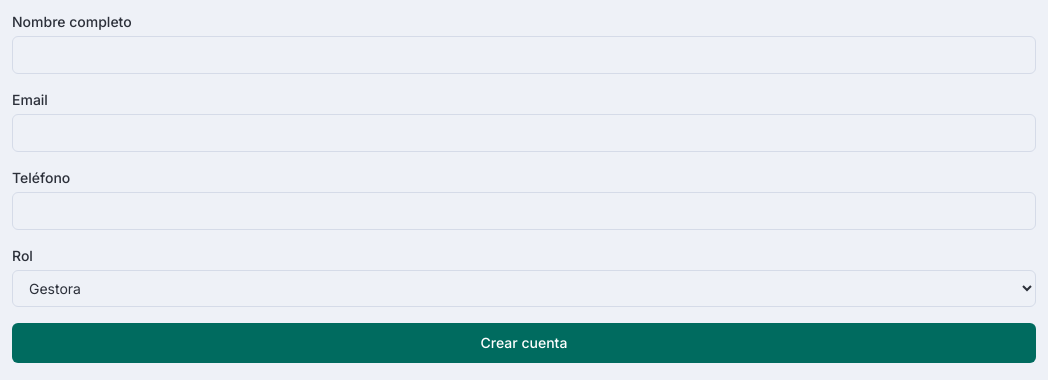
Test: CreateUserForm (R4.1, R4.2, R4.3, R4.5, design D5, D6) › on success switches to TemporaryPasswordReveal with the returned password
In the field labelled "Nombre completo": (524, 55) [12,36,1036,74], type "Persona Nueva"
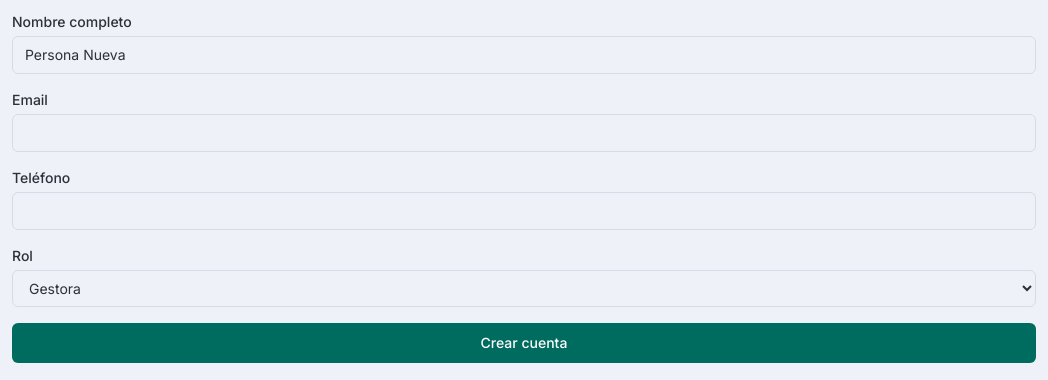
In the field labelled "Email": (524, 133) [12,114,1036,152], type "new@example.com"
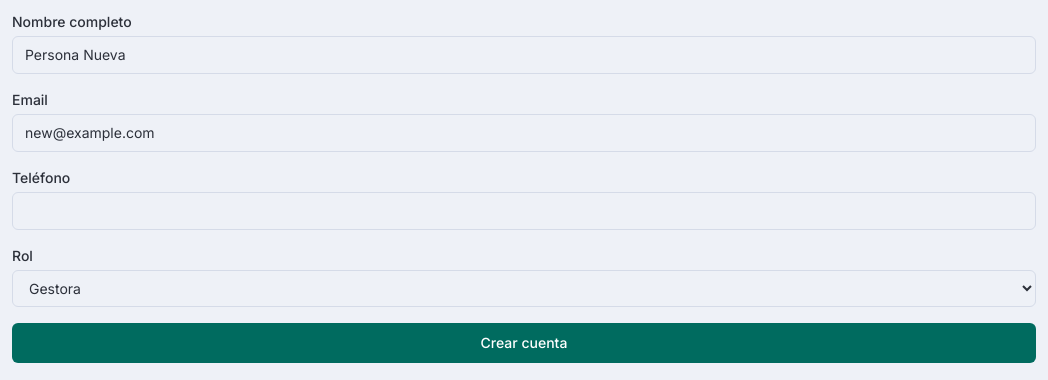
Click the button "Crear cuenta": (524, 343) [12,323,1036,363]
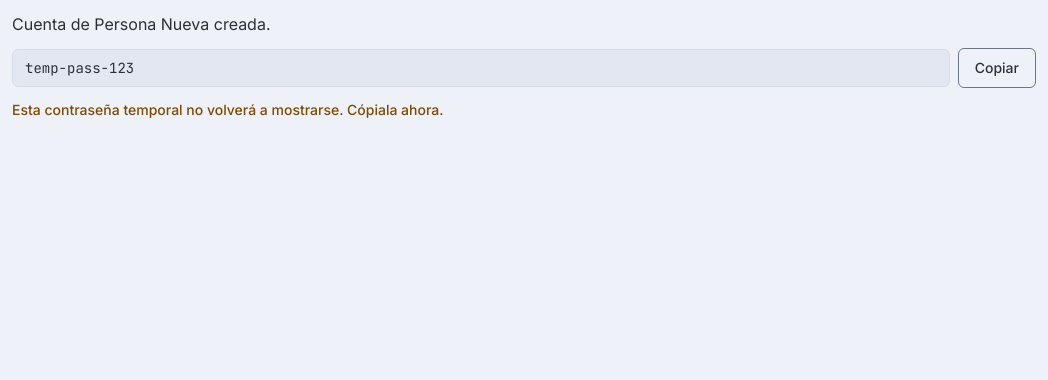
Expected: the text "temp-pass-123" is shown, [12,49,950,87]
Expected: the button "Crear cuenta" is gone
